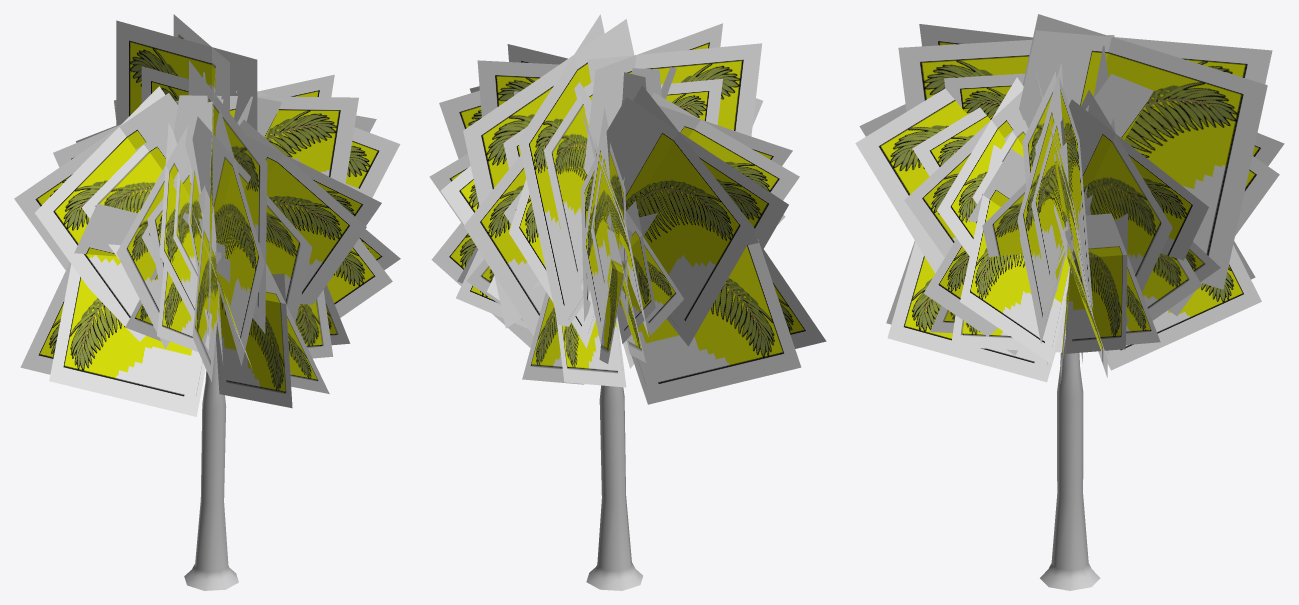
Rendered from PALMAREAL.fbx.
3 renders of one model, left to right at view 1: azimuth 30°, elevation 25°; view 2: azimuth 150°, elevation 25°; view 3: azimuth 270°, elevation 25°, orthographic. The views are drawn at different scales.
Visible parts, largest first — view 1: palmaReal_LOD0; view 2: palmaReal_LOD0; view 3: palmaReal_LOD0.
Part boxes in pixels (bbox=[...]): palmaReal_LOD0: bbox=[14, 14, 400, 590]; palmaReal_LOD0: bbox=[429, 14, 826, 590]; palmaReal_LOD0: bbox=[855, 14, 1284, 590].
Size of what is drawn, in the model's own units: 8.47 by 12.1 by 8.32.
